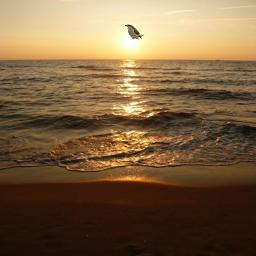Cuckoo: (124, 23, 144, 40)
